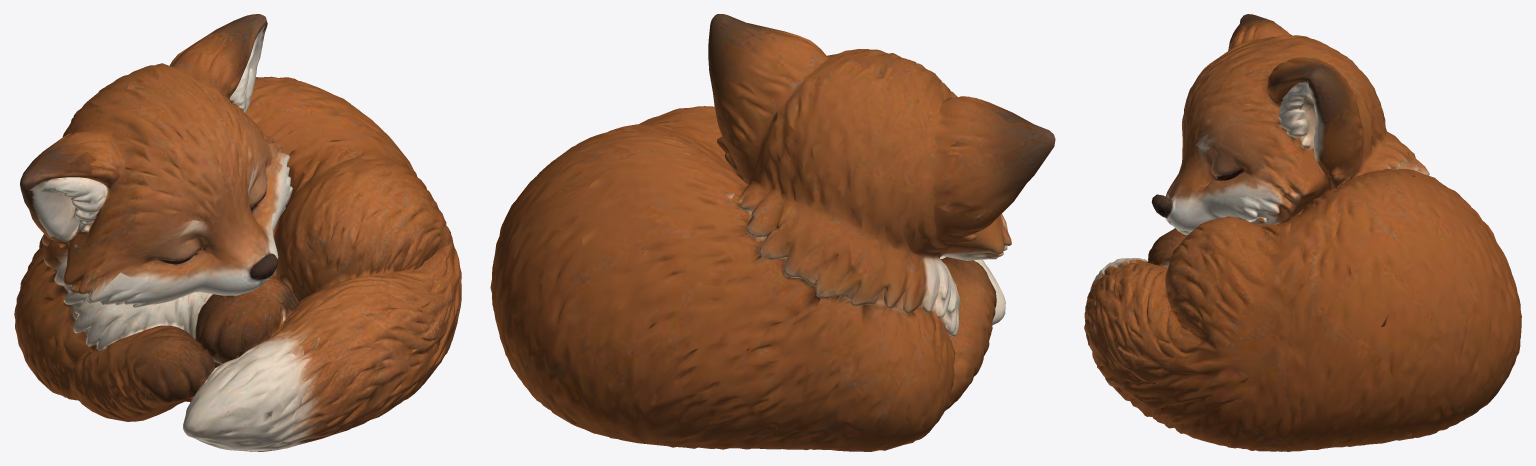
The picture shows the model from 3 angles, left to right: view 1: azimuth 30°, elevation 25°; view 2: azimuth 150°, elevation 25°; view 3: azimuth 270°, elevation 25°; orthographic projection. The views are drawn at different scales.
Bounding box in the file's own units: 1.9 × 1.39 × 1.71.
1 material, 1 textured.
